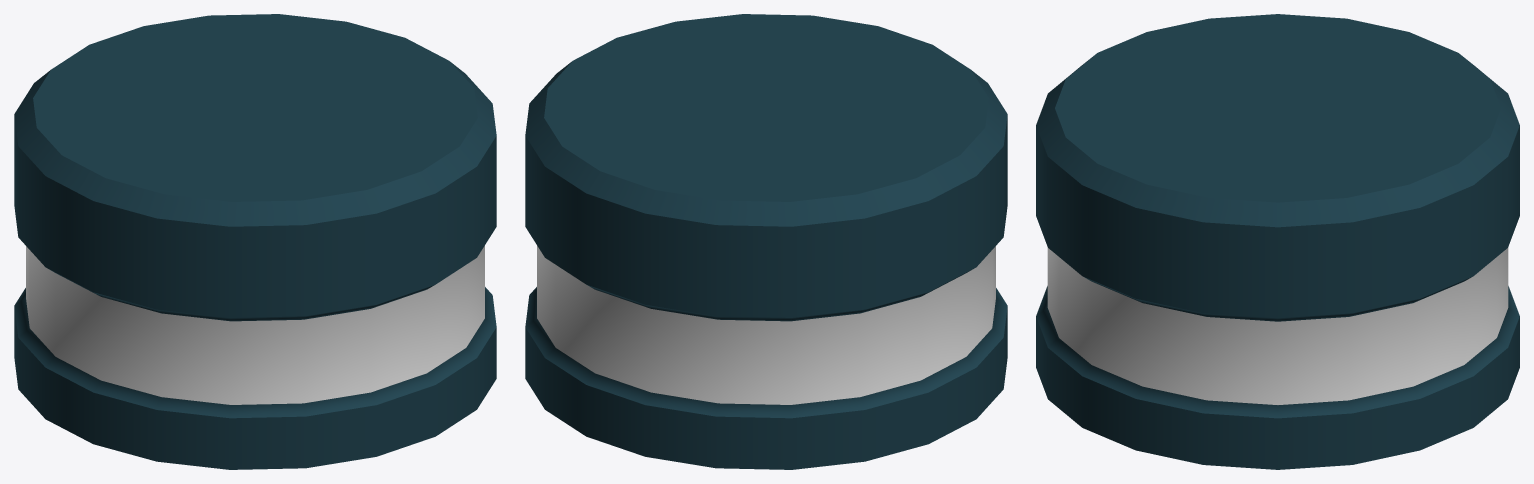
The model's file is Aquarium_mesh 1.fbx.
3 views of the same model, side by side, from view 1: azimuth 30°, elevation 25°; view 2: azimuth 150°, elevation 25°; view 3: azimuth 270°, elevation 25° (orthographic).
Parts seen in each view (by area): view 1: Aquarium_mesh; view 2: Aquarium_mesh; view 3: Aquarium_mesh.
Part boxes in pixels (box(x1,y1,x2,y2)): Aquarium_mesh: box(14, 14, 496, 469); Aquarium_mesh: box(525, 14, 1007, 469); Aquarium_mesh: box(1036, 14, 1519, 469).
Bounding box in the file's own units: 1818 × 1076 × 1818.
